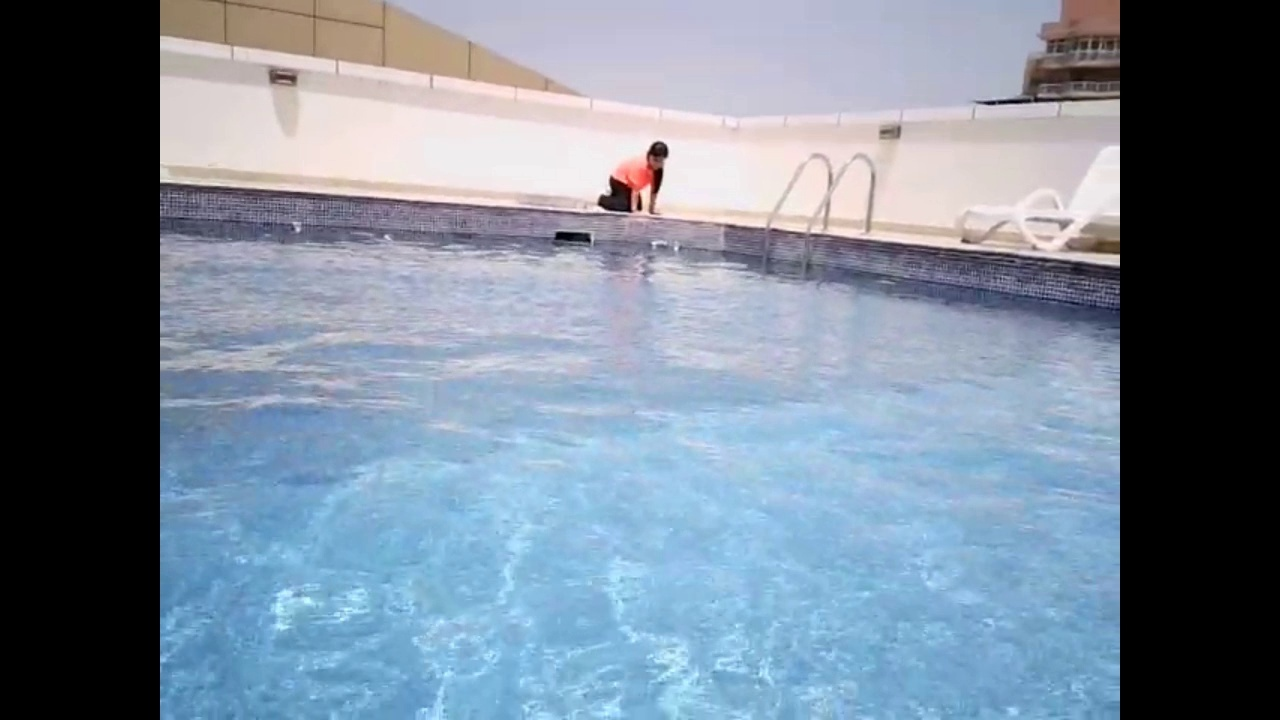debris: (662, 235, 687, 257), (288, 215, 308, 236), (644, 235, 668, 250), (382, 228, 395, 244)
